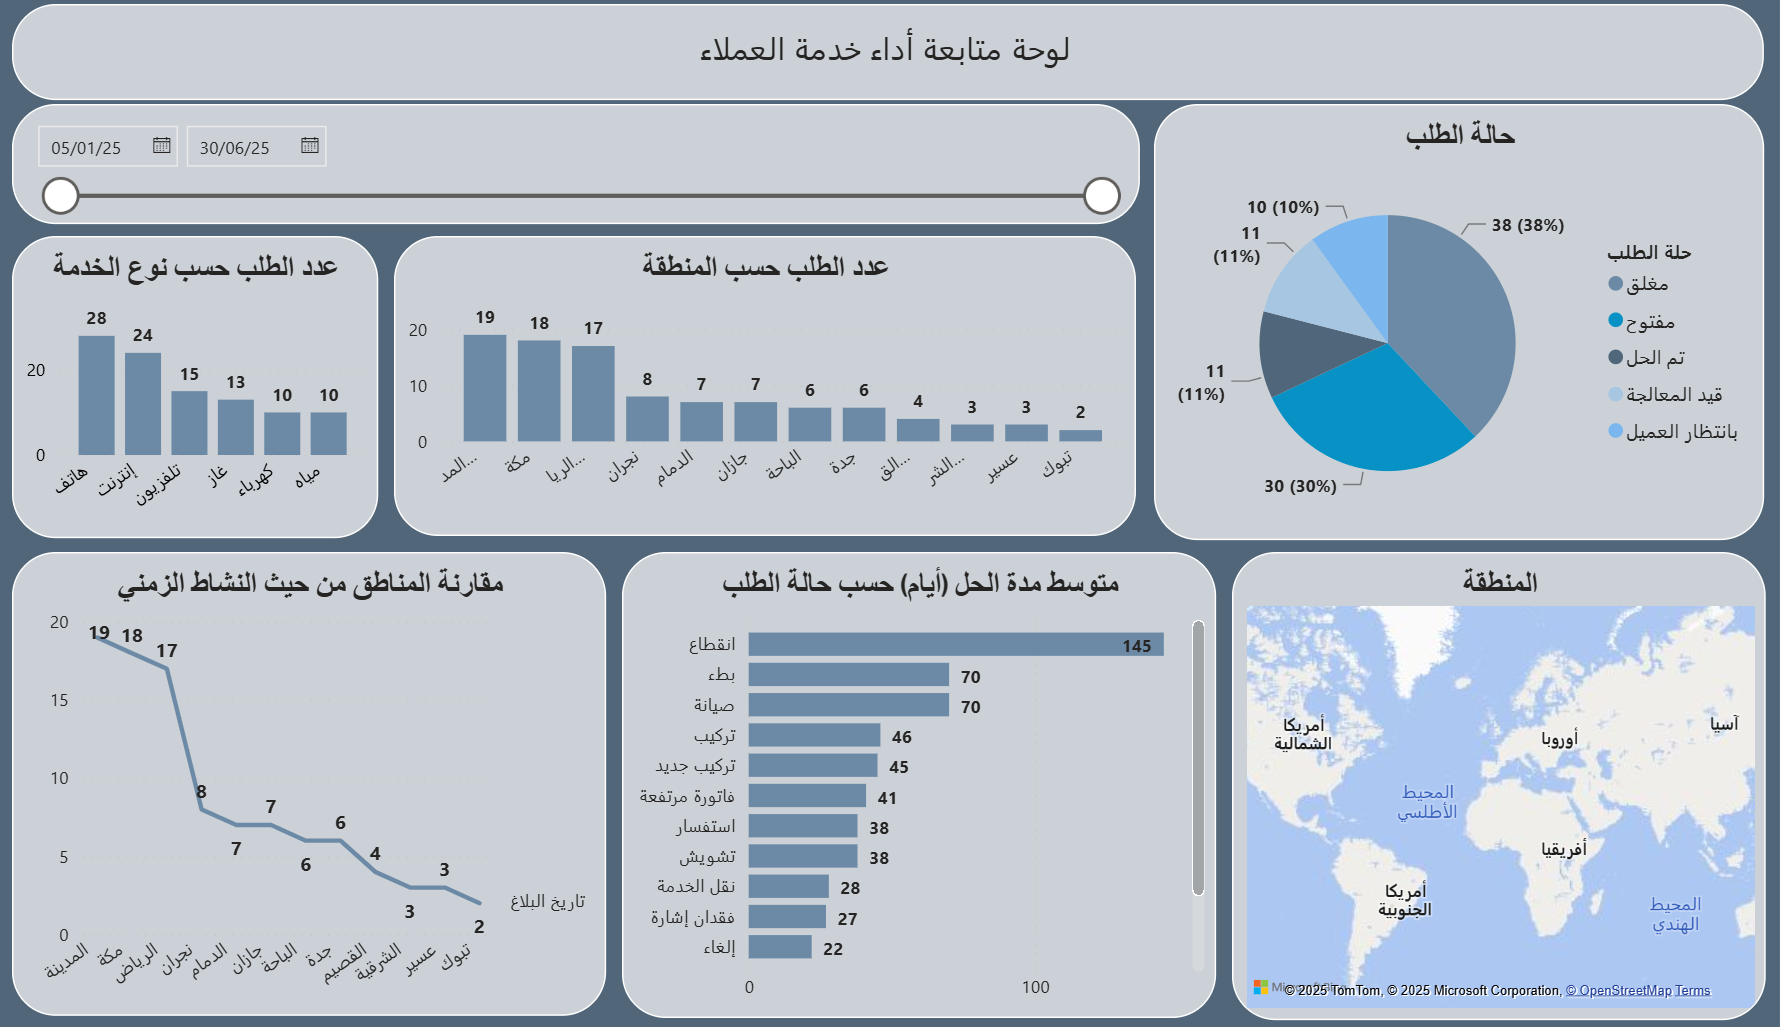

What the dashboard file says about the page in this screenshot:
{"tool":"powerbi","page":{"name":"Page ١","canvas":[1280,720],"ordinal":0},"visuals":[{"type":"shape","title":"لوحة متابعة أداء خدمة العملاء - 2025","box":[0,1.4,1278.6,34.3],"z":0},{"type":"clusteredColumnChart","title":"عدد الطلب حسب نوع الخدمة ","fields":{"Category":["Sheet1.نوع الخدمة "],"Y":["CountNonNull(Sheet1.اسم العميل )"]},"box":[0,79.7,309,221.1],"z":1000},{"type":"clusteredColumnChart","title":"عدد الطلب حسب المنطقة","fields":{"Category":["Sheet1.المنطقة "],"Y":["CountNonNull(Sheet1.نوع الخدمة )"]},"box":[328.2,79.7,512.3,222.5],"z":2000},{"type":"pieChart","title":"حالة الطلب","fields":{"Category":["Sheet1.حلة الطلب "],"Y":["CountNonNull(Sheet1.اسم العميل )"]},"box":[840.5,79.7,439.5,221.1],"z":3000},{"type":"barChart","title":"متوسط مدة الحل (أيام) حسب حالة الطلب","fields":{"Category":["Sheet1.نوع المشكلة المبلغة"],"Y":["Sum(Sheet1.مدة الحل بالأيام )"]},"box":[0,359.8,615.3,361.2],"z":4000},{"type":"lineChart","title":"مقارنة المناطق من حيث النشاط الزمني","fields":{"Category":["Sheet1.المنطقة "],"Y":["CountNonNull(Sheet1.تاريخ البلاغ)"]},"box":[657.9,359.8,605.7,359.8],"z":5000},{"type":"shape","box":[0,307.6,1280,31.6],"z":6000},{"type":"shape","box":[299.4,60.4,17.9,262.3],"z":7000},{"type":"shape","box":[833.6,61.8,22,262.3],"z":8000},{"type":"shape","box":[601.5,322.7,23.3,396.9],"z":9000}]}

Visuals, with their boxes in screenshot pixels (x1, y1, x2, y2), scaled from the page's 1280x720 canvas onto the 1780x1027 screenshot:
"لوحة متابعة أداء خدمة العملاء - 2025" shape: crop(0, 2, 1778, 51)
"عدد الطلب حسب نوع الخدمة " clusteredColumnChart: crop(0, 114, 430, 429)
"عدد الطلب حسب المنطقة" clusteredColumnChart: crop(456, 114, 1169, 431)
"حالة الطلب" pieChart: crop(1169, 114, 1779, 429)
"متوسط مدة الحل (أيام) حسب حالة الطلب" barChart: crop(0, 513, 856, 1026)
"مقارنة المناطق من حيث النشاط الزمني" lineChart: crop(915, 513, 1757, 1026)
shape: crop(0, 439, 1779, 484)
shape: crop(416, 86, 441, 460)
shape: crop(1159, 88, 1190, 462)
shape: crop(836, 460, 869, 1026)
